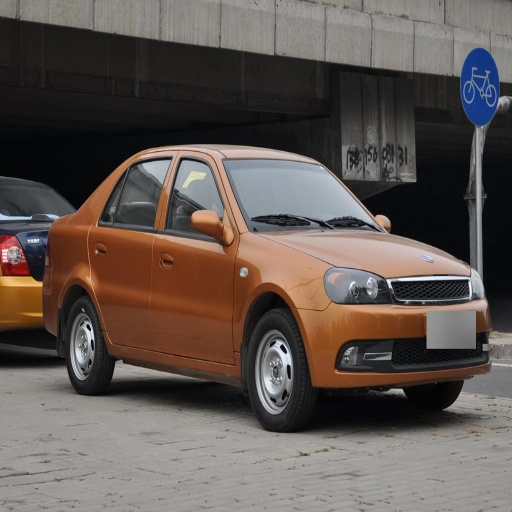back_bumper: (5, 276, 62, 332)
back_right_door: (90, 154, 174, 349)
front_bumper: (301, 277, 488, 387)
front_right_door: (155, 155, 236, 363)
front_right_light: (324, 265, 386, 303)
